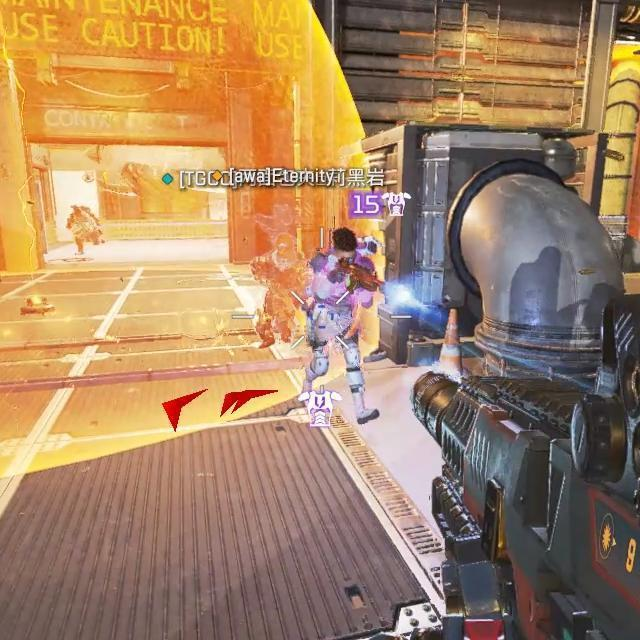avatar: (304, 226, 379, 426)
